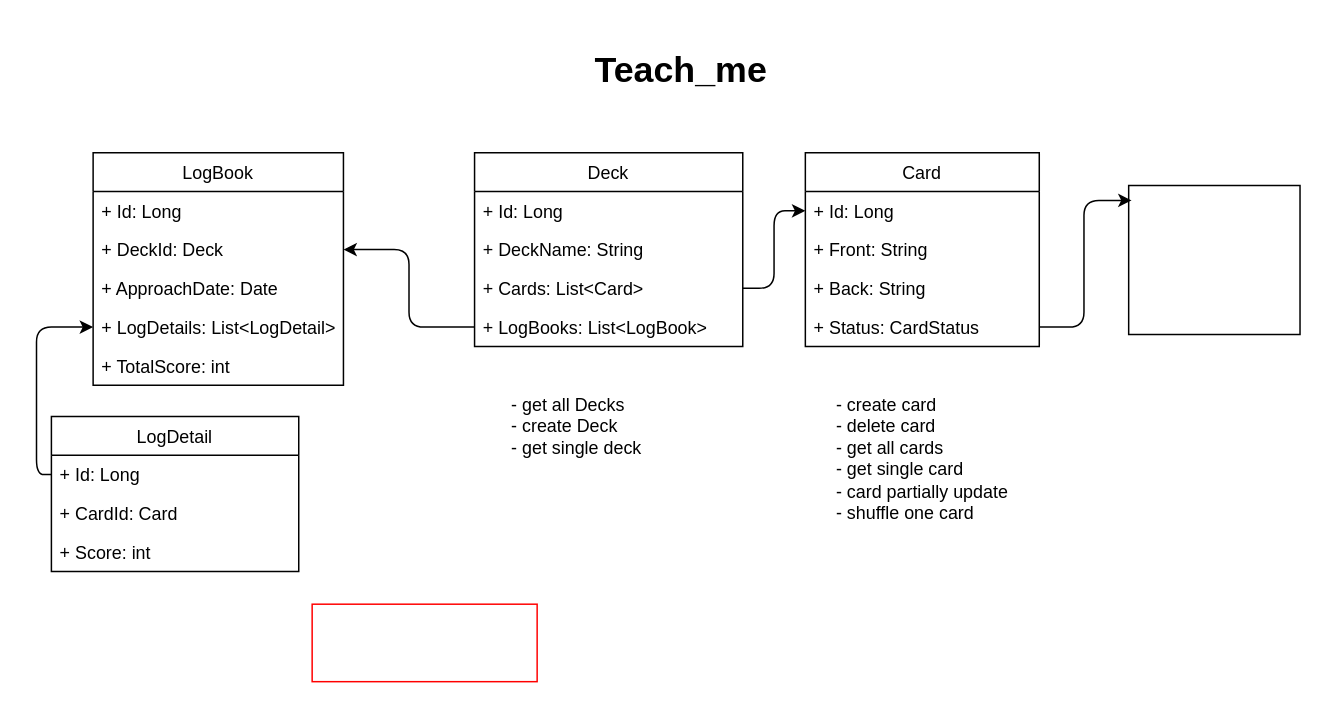
Image size: 1326x708. Some labels were removed from this diagram. Here are the shapes that lost their labels. From the top down, the centre of each, then its label:
At (1213,259): "enum CardStatus + NEW + AGAIN (0pkt) + GOOD (1pkt) + EASY (3pkt)".
At (424,642): "Gdzie powinien byc CardStatus?".
